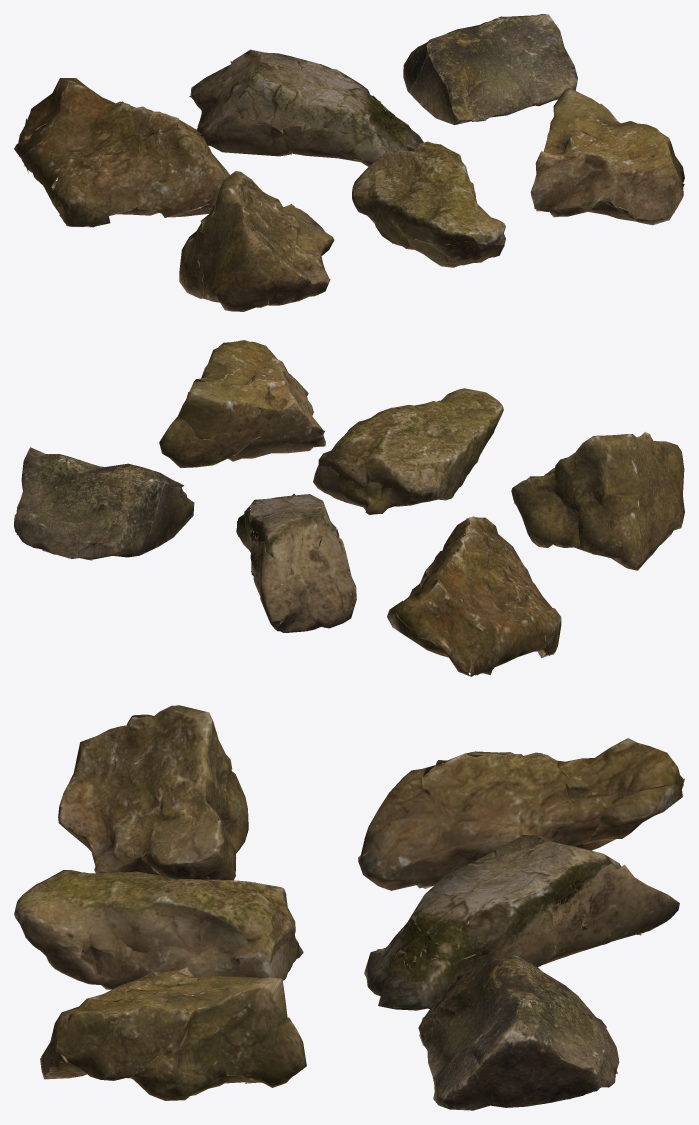
Rendered from prop_mossy_rocks.glb.
3 renders of one model, top to bottom at view 1: azimuth 30°, elevation 25°; view 2: azimuth 150°, elevation 25°; view 3: azimuth 270°, elevation 25°, orthographic. The views are drawn at different scales.
Parts seen in each view (by area): view 1: rock_moss_set_01_rock01, rock_moss_set_01_rock02, rock_moss_set_01_rock06, rock_moss_set_01_rock04, rock_moss_set_01_rock03, rock_moss_set_01_rock05; view 2: rock_moss_set_01_rock04, rock_moss_set_01_rock01, rock_moss_set_01_rock05, rock_moss_set_01_rock03, rock_moss_set_01_rock06, rock_moss_set_01_rock02; view 3: rock_moss_set_01_rock01, rock_moss_set_01_rock02, rock_moss_set_01_rock05, rock_moss_set_01_rock04, rock_moss_set_01_rock06, rock_moss_set_01_rock03.
Boxes of the visible parts, left/top/right/bottom form: rock_moss_set_01_rock01: left=14, top=78, right=229, bottom=227; rock_moss_set_01_rock02: left=189, top=49, right=423, bottom=166; rock_moss_set_01_rock06: left=530, top=87, right=684, bottom=225; rock_moss_set_01_rock04: left=179, top=171, right=334, bottom=311; rock_moss_set_01_rock03: left=403, top=14, right=577, bottom=125; rock_moss_set_01_rock05: left=352, top=141, right=505, bottom=267; rock_moss_set_01_rock04: left=511, top=431, right=684, bottom=570; rock_moss_set_01_rock01: left=387, top=516, right=561, bottom=676; rock_moss_set_01_rock05: left=313, top=388, right=503, bottom=514; rock_moss_set_01_rock03: left=14, top=447, right=194, bottom=560; rock_moss_set_01_rock06: left=159, top=340, right=325, bottom=467; rock_moss_set_01_rock02: left=236, top=493, right=356, bottom=632; rock_moss_set_01_rock01: left=358, top=738, right=684, bottom=890; rock_moss_set_01_rock02: left=364, top=835, right=679, bottom=1010; rock_moss_set_01_rock05: left=14, top=870, right=303, bottom=989; rock_moss_set_01_rock04: left=58, top=705, right=248, bottom=880; rock_moss_set_01_rock06: left=40, top=967, right=306, bottom=1100; rock_moss_set_01_rock03: left=418, top=955, right=619, bottom=1110.
Size of the model in its own units: 8.01 by 1.77 by 6.95.
1 material, 1 textured.
